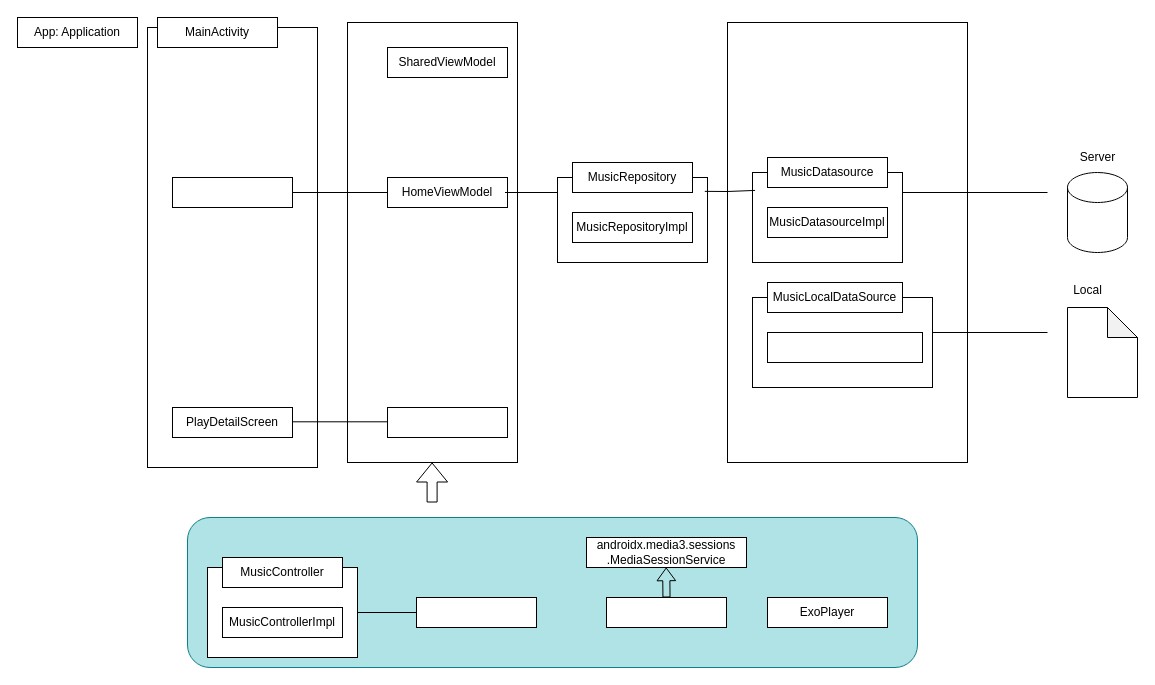
Some shapes in this 1155 by 685 pixel diagram are drawn without their labels. Here are the shapes that lost their labels. From the top down, the centre of each, then its label:
the point at 232,192: HomeScreen
the point at 844,347: MusicLocalDataSourceImpl
the point at 447,422: PlayDetailViewModel
the point at 476,612: androidx.media3 .MediaController
the point at 666,612: MusicService
